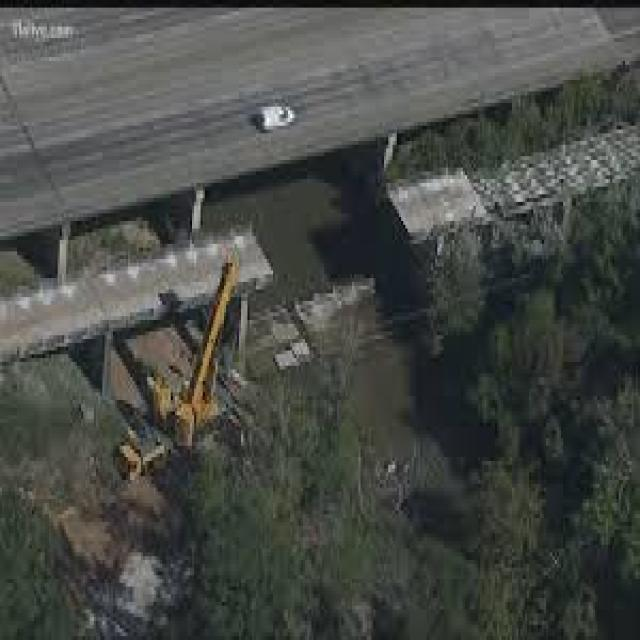bridge collapse: (199, 100, 499, 408)
